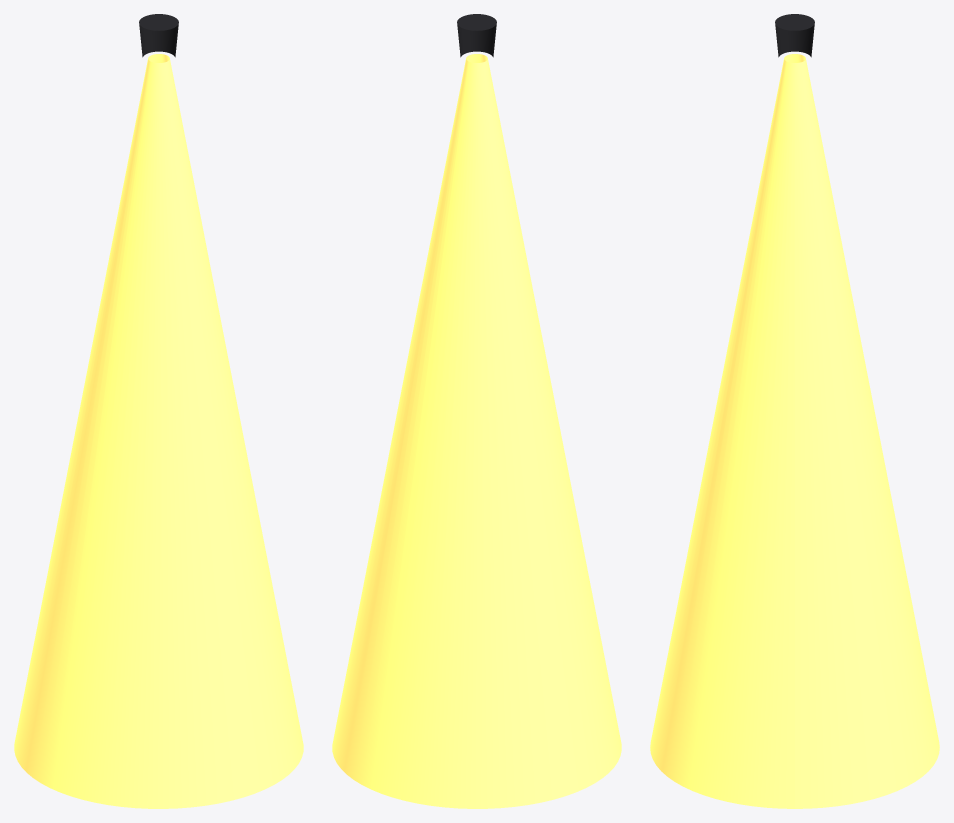
File: beam_gold.glb
The picture shows the model from 3 angles, left to right: view 1: azimuth 30°, elevation 25°; view 2: azimuth 150°, elevation 25°; view 3: azimuth 270°, elevation 25°; orthographic projection.
Parts seen in each view (by area): view 1: beam, can0, can1; view 2: beam, can0, can1; view 3: beam, can0, can1.
Part boxes in pixels (box(x1,y1,x2,y2)): beam: box(14, 54, 303, 808); can0: box(139, 24, 178, 57); can1: box(139, 14, 178, 30); beam: box(332, 54, 621, 808); can0: box(457, 24, 496, 57); can1: box(457, 14, 496, 30); beam: box(650, 54, 939, 808); can0: box(775, 24, 814, 57); can1: box(775, 14, 814, 30).
Size of the model in its own units: 1.6 by 4.42 by 1.6.
